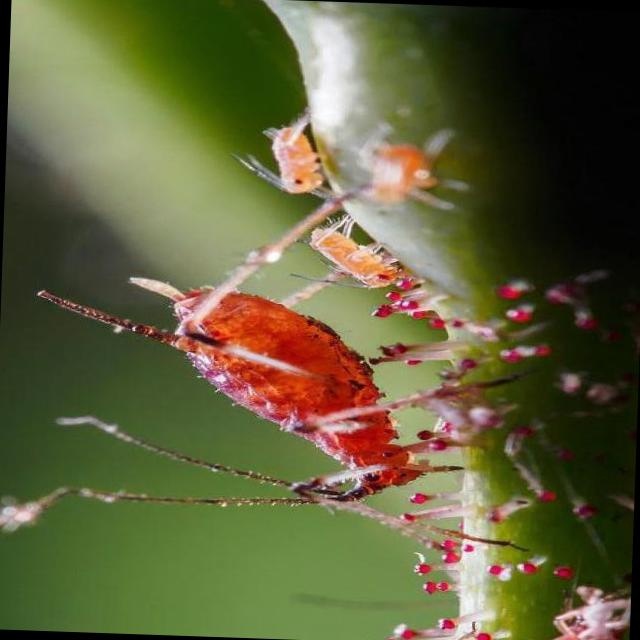aphid: (133, 282, 451, 520), (300, 212, 416, 288), (262, 104, 340, 196)
